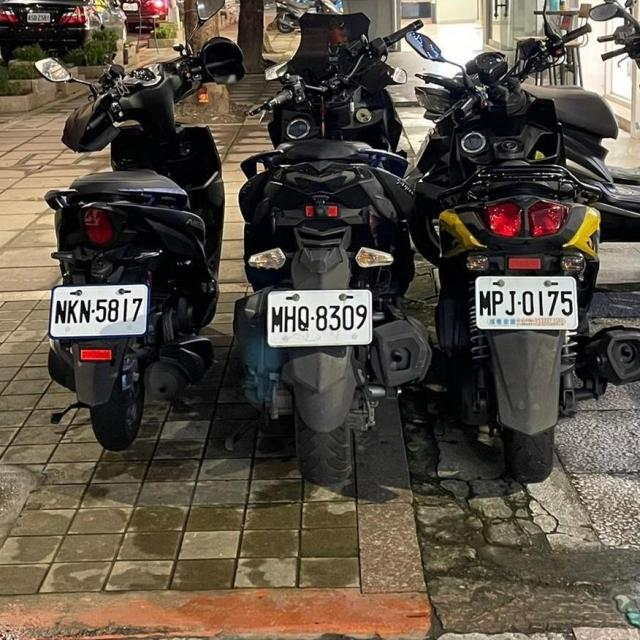W: (467, 271, 587, 334), (262, 286, 380, 350), (47, 283, 153, 339)
